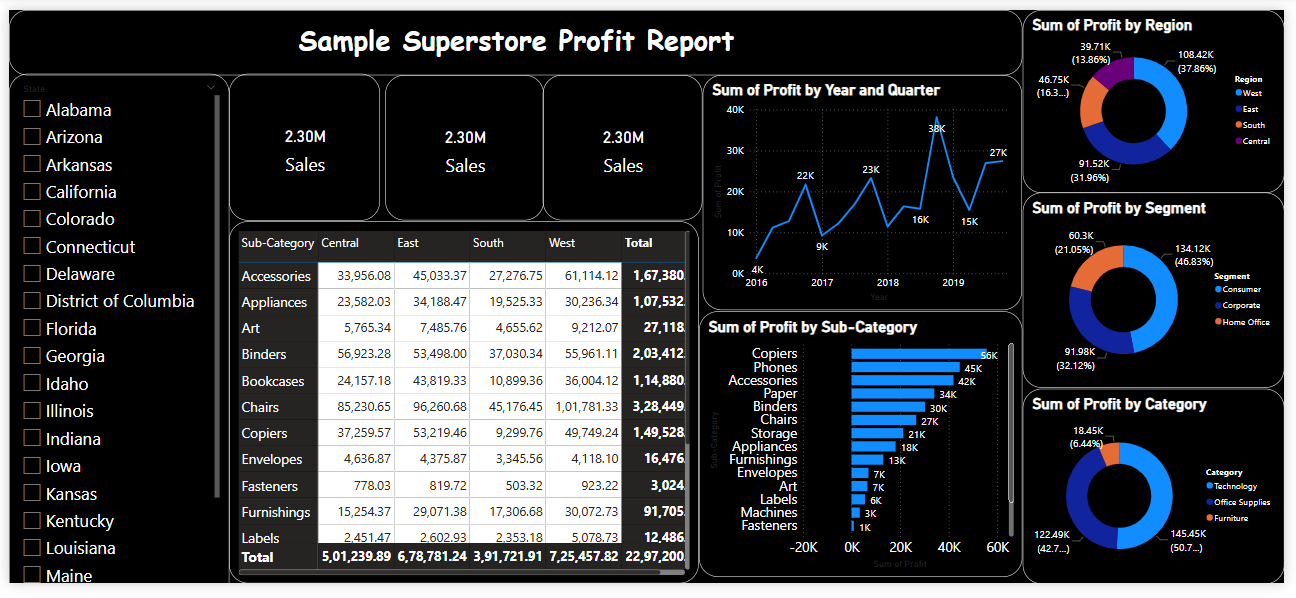

Layout of this report page (visuals, bound fields, positions):
{"tool":"powerbi","page":{"name":"Page 1","canvas":[2000,900],"ordinal":0},"visuals":[{"type":"textbox","box":[0,0,1589.7,102.7],"z":0},{"type":"donutChart","title":"Profit by Segment","fields":{"Y":["Sum(Orders.Profit)"],"Category":["Orders.Segment"]},"box":[2234.1,431.8,765.9,395.5],"z":1000},{"type":"barChart","fields":{"Category":["Orders.Sub-Category"],"Y":["Sum(Orders.Profit)"]},"box":[1082.8,471.6,506.9,417.1],"z":2000},{"type":"lineChart","fields":{"Category":["Orders.Order Date.Variation.Date Hierarchy.Year","Orders.Order Date.Variation.Date Hierarchy.Quarter","Orders.Order Date.Variation.Date Hierarchy.Month","Orders.Order Date.Variation.Date Hierarchy.Day"],"Y":["Sum(Orders.Profit)"]},"box":[1089.2,102.7,500.5,368.9],"z":3000},{"type":"slicer","fields":{"Values":["Orders.State"]},"box":[0,99.5,345.2,1200],"z":4000},{"type":"donutChart","fields":{"Y":["Sum(Orders.Profit)"],"Category":["Orders.Category"]},"box":[2234.1,827.3,765.9,472.7],"z":5000},{"type":"donutChart","fields":{"Category":["Orders.Region"],"Y":["Sum(Orders.Profit)"]},"box":[2234.1,0,765.9,431.8],"z":6000},{"type":"pivotTable","fields":{"Rows":["Orders.Sub-Category"],"Columns":["Orders.Region"],"Values":["Sum(Orders.Sales)"]},"box":[345.2,331.7,737.2,568.3],"z":7000},{"type":"card","fields":{"Values":["Sum(Orders.Sales)"]},"box":[345.2,99.5,236.7,230.7],"z":8000},{"type":"card","fields":{"Values":["Sum(Orders.Sales)"]},"box":[838.2,102.5,250.3,227.6],"z":9000},{"type":"card","fields":{"Values":["Sum(Orders.Sales)"]},"box":[589.4,102.5,248.7,227.6],"z":10000},{"type":"donutChart","fields":{"Category":["Orders.Region"],"Y":["Sum(Orders.Profit)"]},"box":[1589.7,0,410.7,287.1],"z":11000},{"type":"donutChart","fields":{"Category":["Orders.Segment"],"Y":["Sum(Orders.Profit)"]},"box":[1589.7,287.1,410.7,306.4],"z":12000},{"type":"donutChart","fields":{"Y":["Sum(Orders.Profit)"],"Category":["Orders.Category"]},"box":[1589.7,593.5,410.7,306.4],"z":13000}]}

Visuals, with their boxes in screenshot pixels (x1, y1, x2, y2), scaled from the page's 2000x900 canvas onto the 1296x598 screenshot:
textbox: l=0, t=0, r=1030, b=68
barChart - Orders.Sub-Category x Sum(Orders.Profit): l=702, t=313, r=1030, b=590
lineChart - Orders.Order Date.Variation.Date Hierarchy.Year x Orders.Order Date.Variation.Date Hierarchy.Quarter: l=706, t=68, r=1030, b=313
slicer - Orders.State: l=0, t=66, r=224, b=597
pivotTable - Orders.Sub-Category x Orders.Region: l=224, t=220, r=701, b=597
card - Sum(Orders.Sales): l=224, t=66, r=377, b=219
card - Sum(Orders.Sales): l=543, t=68, r=705, b=219
card - Sum(Orders.Sales): l=382, t=68, r=543, b=219
donutChart - Orders.Region x Sum(Orders.Profit): l=1030, t=0, r=1295, b=191
donutChart - Orders.Segment x Sum(Orders.Profit): l=1030, t=191, r=1295, b=394
donutChart - Sum(Orders.Profit) x Orders.Category: l=1030, t=394, r=1295, b=597
